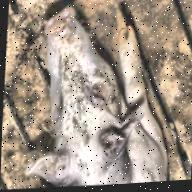boar: (22, 0, 178, 191)
